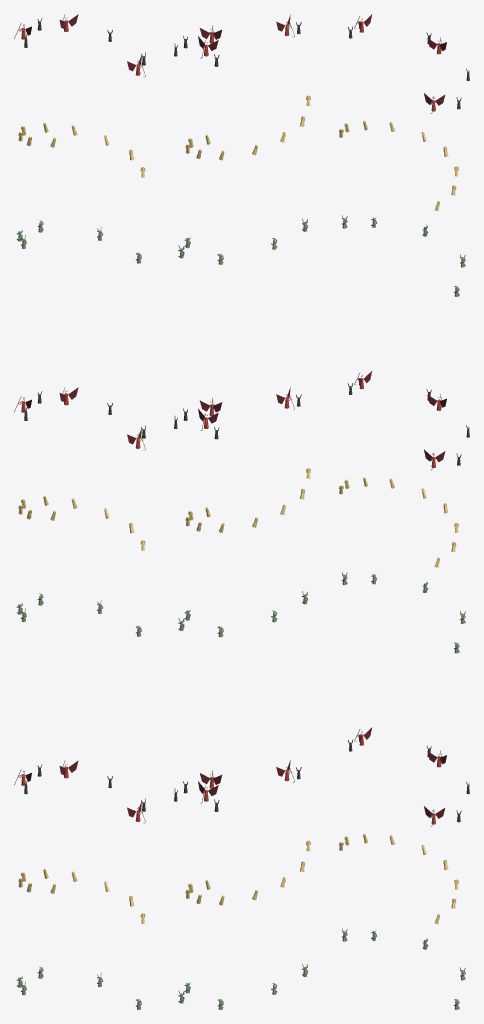
File: Circle8Folk0.obj
3 renders of one model, left to right at view 1: azimuth 30°, elevation 25°; view 2: azimuth 150°, elevation 25°; view 3: azimuth 330°, elevation 25°, orthographic. The views are drawn at different scales.
Visible parts, largest first — view 1: Circle8Folk0; view 2: Circle8Folk0; view 3: Circle8Folk0.
Boxes of the visible parts, x1,y1,x2,y2 form: Circle8Folk0: (14,14,145,1009); Circle8Folk0: (174,14,310,1009); Circle8Folk0: (339,14,469,1009).
Bounding box in the file's own units: 28.12 × 216 × 21.48.
1 material, 1 textured.
